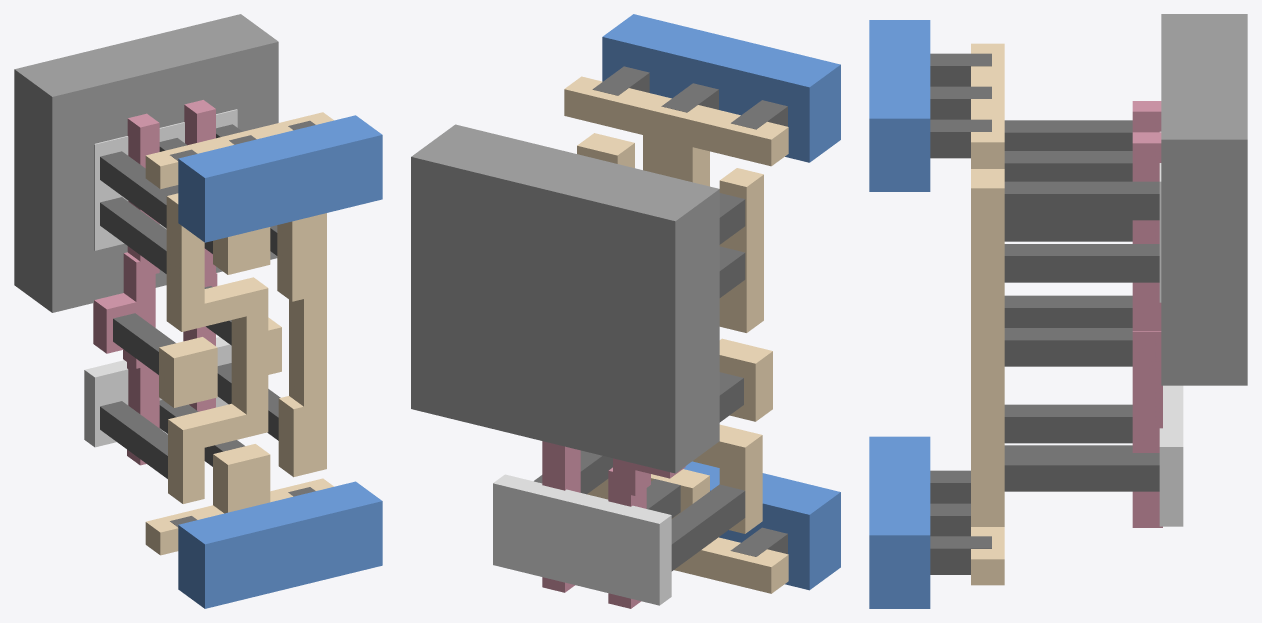
File: sky130_fd_sc_hd__buf_1.gds.gltf
3 views of the same model, side by side, from view 1: azimuth 30°, elevation 25°; view 2: azimuth 150°, elevation 25°; view 3: azimuth 270°, elevation 25° (orthographic). The views are drawn at different scales.
Parts seen in each view (by area): view 1: sky130_fd_sc_hd__buf_1_li1, sky130_fd_sc_hd__buf_1_nwell, sky130_fd_sc_hd__buf_1_met1, sky130_fd_sc_hd__buf_1_licon, sky130_fd_sc_hd__buf_1_poly, sky130_fd_sc_hd__buf_1_diff, sky130_fd_sc_hd__buf_1_mcon; view 2: sky130_fd_sc_hd__buf_1_nwell, sky130_fd_sc_hd__buf_1_li1, sky130_fd_sc_hd__buf_1_met1, sky130_fd_sc_hd__buf_1_diff, sky130_fd_sc_hd__buf_1_licon, sky130_fd_sc_hd__buf_1_poly, sky130_fd_sc_hd__buf_1_mcon; view 3: sky130_fd_sc_hd__buf_1_licon, sky130_fd_sc_hd__buf_1_nwell, sky130_fd_sc_hd__buf_1_met1, sky130_fd_sc_hd__buf_1_li1, sky130_fd_sc_hd__buf_1_mcon, sky130_fd_sc_hd__buf_1_poly, sky130_fd_sc_hd__buf_1_diff.
Part boxes in pixels (x1=…): sky130_fd_sc_hd__buf_1_li1: x1=145, y1=112, x2=333, y2=555; sky130_fd_sc_hd__buf_1_nwell: x1=14, y1=14, x2=278, y2=312; sky130_fd_sc_hd__buf_1_met1: x1=178, y1=115, x2=382, y2=608; sky130_fd_sc_hd__buf_1_licon: x1=100, y1=124, x2=280, y2=478; sky130_fd_sc_hd__buf_1_poly: x1=93, y1=100, x2=217, y2=465; sky130_fd_sc_hd__buf_1_diff: x1=84, y1=109, x2=237, y2=447; sky130_fd_sc_hd__buf_1_mcon: x1=170, y1=120, x2=315, y2=527; sky130_fd_sc_hd__buf_1_nwell: x1=411, y1=124, x2=719, y2=473; sky130_fd_sc_hd__buf_1_li1: x1=564, y1=76, x2=788, y2=593; sky130_fd_sc_hd__buf_1_met1: x1=602, y1=14, x2=840, y2=590; sky130_fd_sc_hd__buf_1_diff: x1=493, y1=474, x2=671, y2=605; sky130_fd_sc_hd__buf_1_licon: x1=534, y1=193, x2=745, y2=571; sky130_fd_sc_hd__buf_1_poly: x1=542, y1=441, x2=685, y2=608; sky130_fd_sc_hd__buf_1_mcon: x1=592, y1=66, x2=787, y2=556; sky130_fd_sc_hd__buf_1_licon: x1=1004, y1=120, x2=1159, y2=491; sky130_fd_sc_hd__buf_1_nwell: x1=1161, y1=14, x2=1247, y2=385; sky130_fd_sc_hd__buf_1_met1: x1=869, y1=20, x2=930, y2=608; sky130_fd_sc_hd__buf_1_li1: x1=971, y1=43, x2=1004, y2=585; sky130_fd_sc_hd__buf_1_mcon: x1=930, y1=53, x2=991, y2=574; sky130_fd_sc_hd__buf_1_poly: x1=1132, y1=101, x2=1162, y2=527; sky130_fd_sc_hd__buf_1_diff: x1=1159, y1=131, x2=1183, y2=526.
Size of the model in its own units: 1.76 by 3.2 by 2.24.
